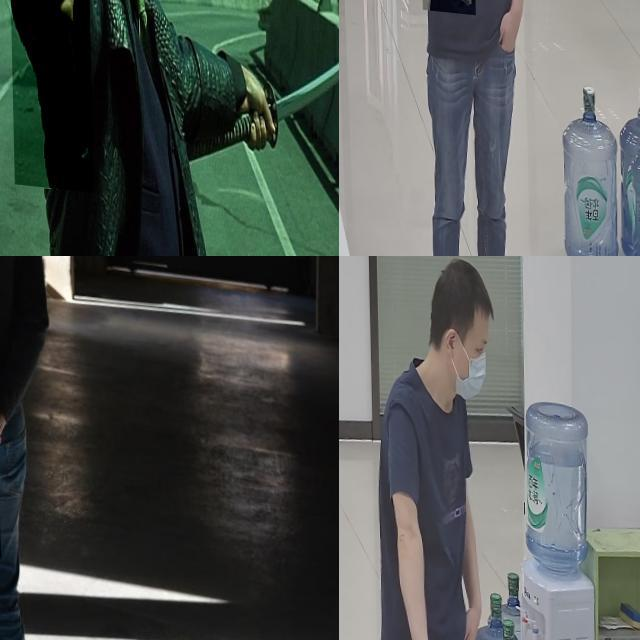-: (0, 439, 14, 552)
gun-knife-thesis - v11 Yolov5 augmented: (4, 0, 91, 218), (419, 0, 474, 57)
